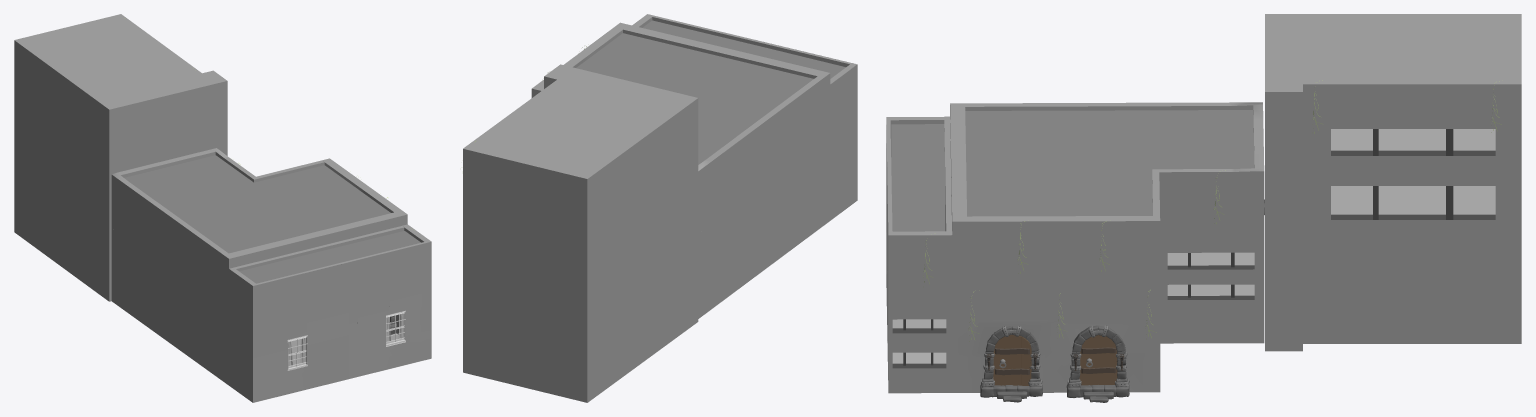
Rendered from MapaSegundoEscenario.fbx.
The picture shows the model from 3 angles, left to right: view 1: azimuth 30°, elevation 25°; view 2: azimuth 150°, elevation 25°; view 3: azimuth 270°, elevation 25°; orthographic projection. The views are drawn at different scales.
Visible parts, largest first — view 1: polySurface8015; view 2: polySurface8015; view 3: polySurface8015.
Boxes of the visible parts, x1,y1,x2,y2 form: polySurface8015: (14,14,431,402); polySurface8015: (463,14,857,402); polySurface8015: (886,14,1521,402).
Size of the model in its own units: 2139 by 1997 by 4407.
